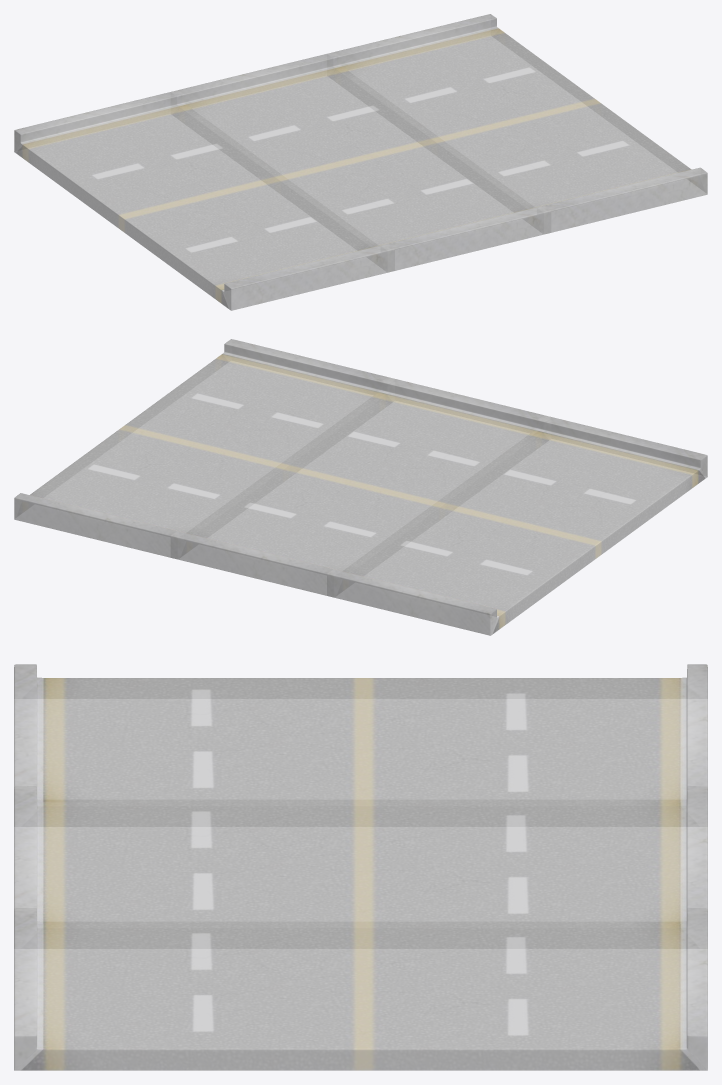
File: road1.glb
3 renders of one model, top to bottom at view 1: azimuth 30°, elevation 25°; view 2: azimuth 150°, elevation 25°; view 3: azimuth 270°, elevation 25°, orthographic. The views are drawn at different scales.
Parts seen in each view (by area): view 1: 10563_RoadSectionStraight_v1-L3.002, 10563_RoadSectionStraight_v1-L3.001, 10563_RoadSectionStraight_v1-L3; view 2: 10563_RoadSectionStraight_v1-L3.002, 10563_RoadSectionStraight_v1-L3.001, 10563_RoadSectionStraight_v1-L3; view 3: 10563_RoadSectionStraight_v1-L3.001, 10563_RoadSectionStraight_v1-L3.002, 10563_RoadSectionStraight_v1-L3.
Boxes of the visible parts, bbox=[...] form: 10563_RoadSectionStraight_v1-L3.002: bbox=[14, 91, 391, 310]; 10563_RoadSectionStraight_v1-L3.001: bbox=[331, 14, 707, 233]; 10563_RoadSectionStraight_v1-L3: bbox=[174, 53, 548, 271]; 10563_RoadSectionStraight_v1-L3.002: bbox=[330, 416, 707, 635]; 10563_RoadSectionStraight_v1-L3.001: bbox=[14, 339, 390, 558]; 10563_RoadSectionStraight_v1-L3: bbox=[174, 378, 547, 596]; 10563_RoadSectionStraight_v1-L3.001: bbox=[14, 910, 707, 1070]; 10563_RoadSectionStraight_v1-L3.002: bbox=[14, 664, 707, 802]; 10563_RoadSectionStraight_v1-L3: bbox=[14, 788, 707, 924].
Bounding box in the file's own units: 9.15 × 0.4059 × 7.22.
3 materials, 3 textured.
